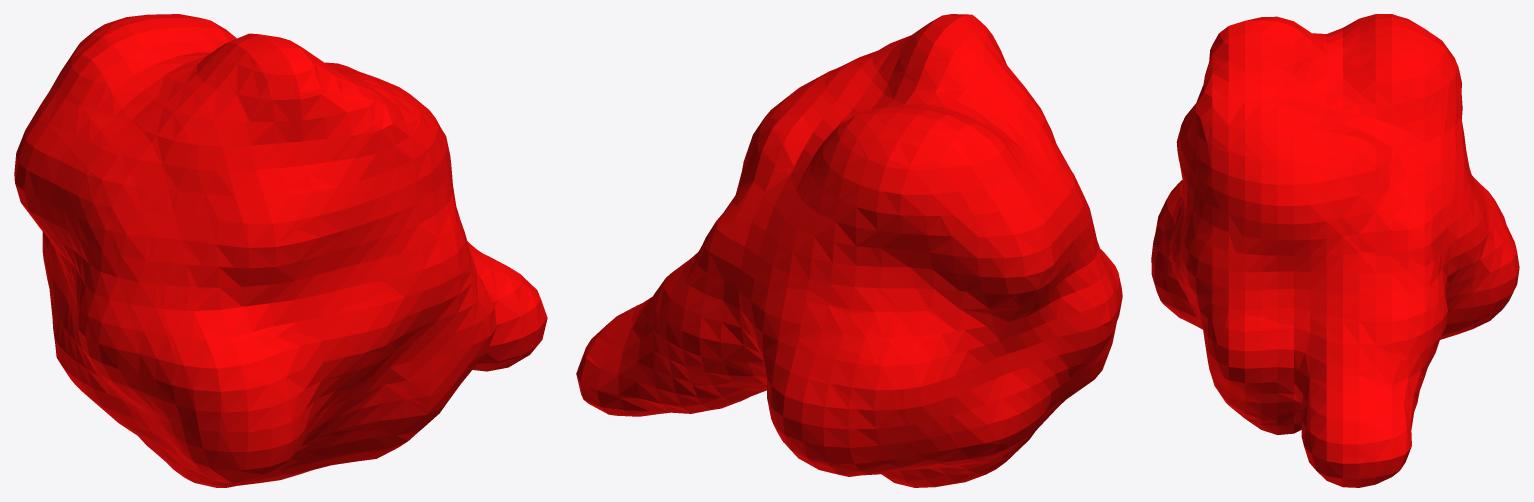
Rendered from kdsC_coarse.dae.
3 views of the same model, side by side, from view 1: azimuth 30°, elevation 25°; view 2: azimuth 150°, elevation 25°; view 3: azimuth 270°, elevation 25° (orthographic). The views are drawn at different scales.
Visible parts, largest first — view 1: kdsC; view 2: kdsC; view 3: kdsC.
Boxes of the visible parts, x1,y1,x2,y2 form: kdsC: (14,14,547,487); kdsC: (576,14,1122,487); kdsC: (1151,14,1519,487).
Bounding box in the file's own units: 51.67 × 45.6 × 40.36.
